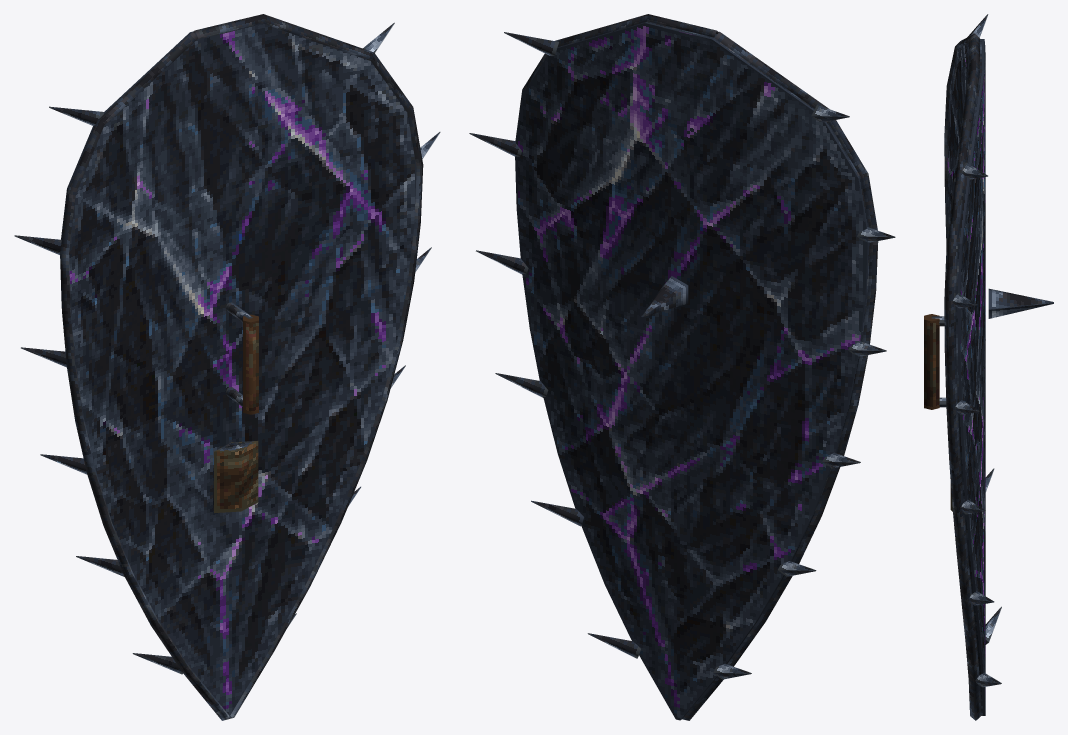
File: thorned_kite.glb
3 views of the same model, side by side, from view 1: azimuth 30°, elevation 25°; view 2: azimuth 150°, elevation 25°; view 3: azimuth 270°, elevation 25° (orthographic). The views are drawn at different scales.
Parts seen in each view (by area): view 1: thorned_kite; view 2: thorned_kite; view 3: thorned_kite.
Boxes of the visible parts, box(x1,y1,x2,y2) form: thorned_kite: box(14, 14, 440, 720); thorned_kite: box(469, 14, 895, 720); thorned_kite: box(924, 14, 1053, 720).
Size of the model in its own units: 0.579 by 0.9053 by 0.1595.
Materials: 1 (1 with a texture image).
